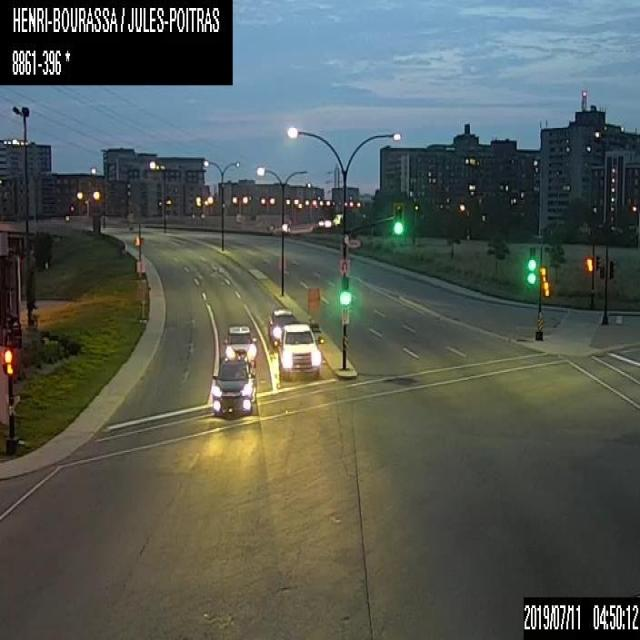vehicle: (277, 322, 321, 378), (210, 360, 255, 414), (222, 323, 256, 361), (268, 308, 296, 347)
